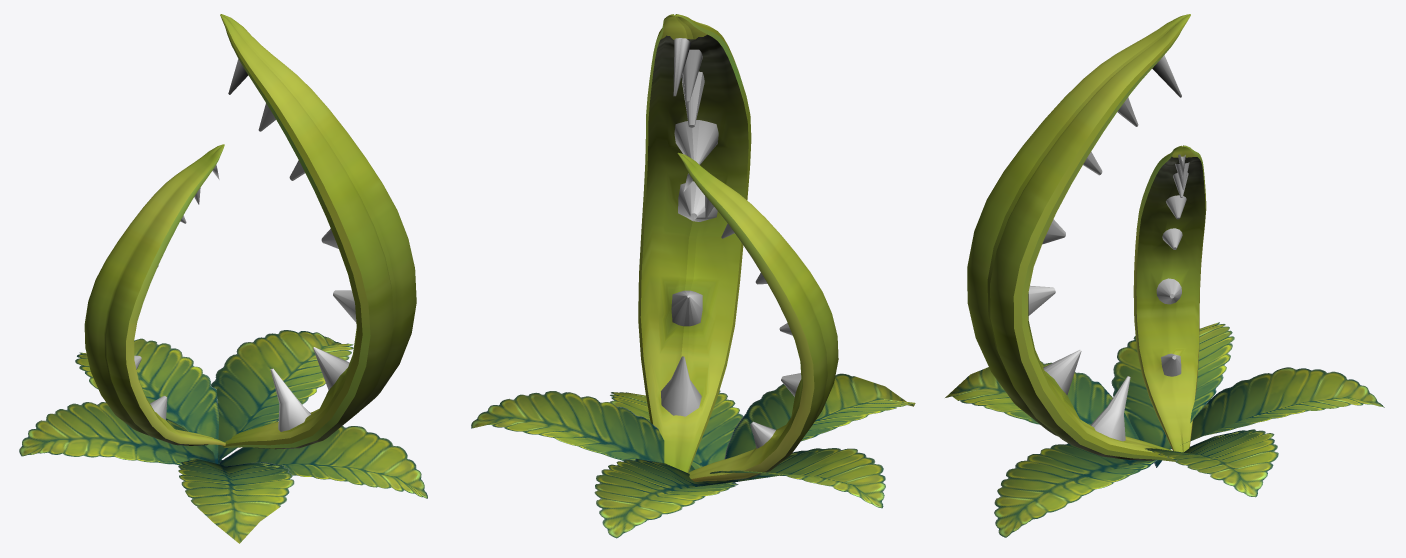
File: Plant_3.fbx
The picture shows the model from 3 angles, left to right: view 1: azimuth 30°, elevation 25°; view 2: azimuth 150°, elevation 25°; view 3: azimuth 270°, elevation 25°; orthographic projection. The views are drawn at different scales.
Parts seen in each view (by area): view 1: Plant_3; view 2: Plant_3; view 3: Plant_3.
Boxes of the visible parts, x1,y1,x2,y2 form: Plant_3: [19, 14, 427, 543]; Plant_3: [471, 14, 915, 538]; Plant_3: [945, 14, 1384, 537].
Bounding box in the file's own units: 5.18 × 6.19 × 5.37.
